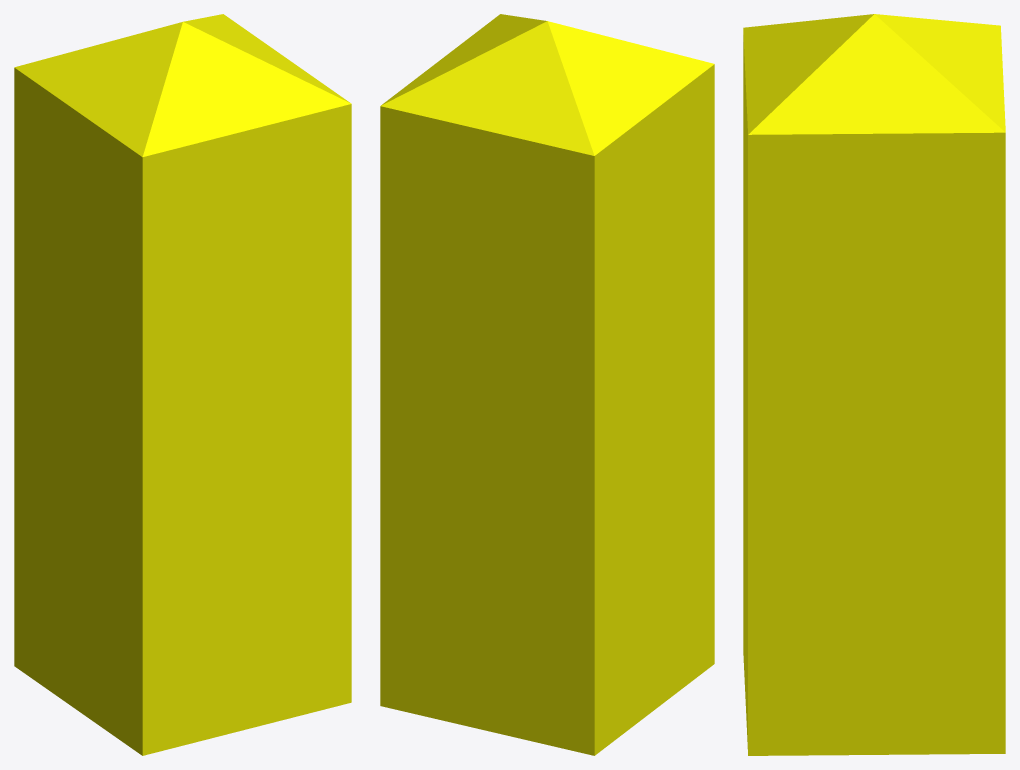
3 renders of one model, left to right at view 1: azimuth 30°, elevation 25°; view 2: azimuth 150°, elevation 25°; view 3: azimuth 270°, elevation 25°, orthographic. The views are drawn at different scales.
Parts seen in each view (by area): view 1: military_stopcolumn; view 2: military_stopcolumn; view 3: military_stopcolumn.
Boxes of the visible parts, left/top/right/bottom form: military_stopcolumn: left=14, top=14, right=351, bottom=755; military_stopcolumn: left=380, top=14, right=714, bottom=755; military_stopcolumn: left=743, top=14, right=1005, bottom=755.
Bounding box in the file's own units: 0.00335 × 0.00982 × 0.0034.
1 material, 1 textured.
